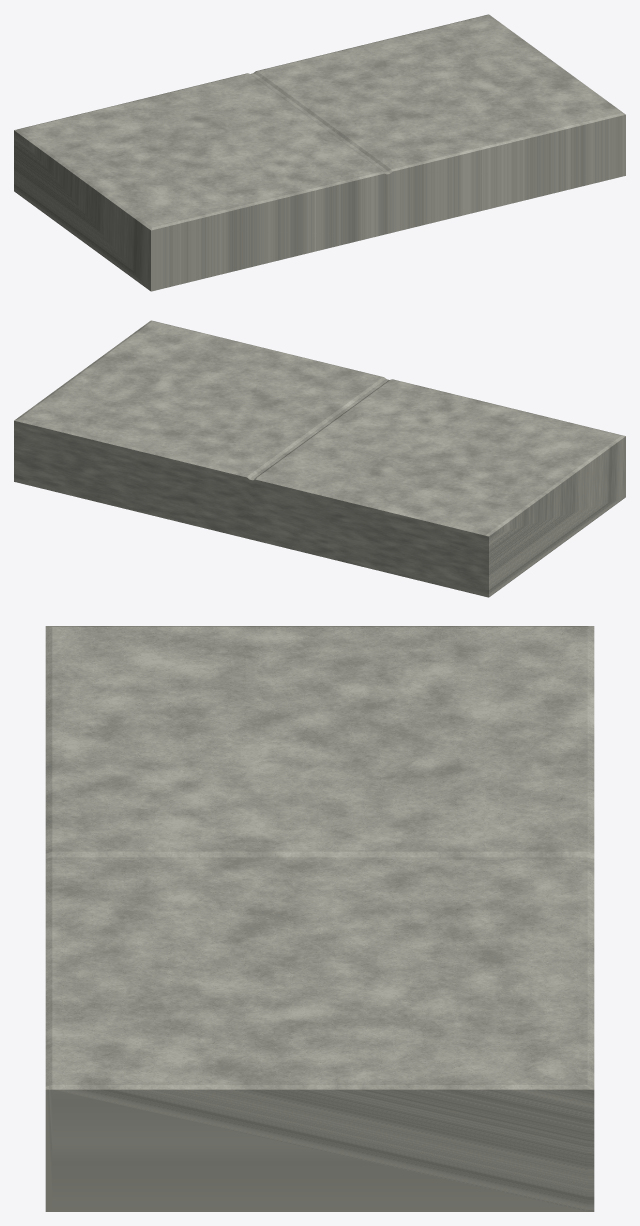
The model's file is PZ_Pavement_2x1.glb.
3 views of the same model, one above another, from view 1: azimuth 30°, elevation 25°; view 2: azimuth 150°, elevation 25°; view 3: azimuth 270°, elevation 25° (orthographic). The views are drawn at different scales.
Visible parts, largest first — view 1: PZ_Pavement_2x1__Slab_Main; view 2: PZ_Pavement_2x1__Slab_Main; view 3: PZ_Pavement_2x1__Slab_Main.
Part boxes in pixels (x1=…): PZ_Pavement_2x1__Slab_Main: x1=14, y1=14, x2=625, y2=291; PZ_Pavement_2x1__Slab_Main: x1=14, y1=320, x2=625, y2=597; PZ_Pavement_2x1__Slab_Main: x1=45, y1=626, x2=594, y2=1211.
Bounding box in the file's own units: 2 × 0.25 × 1.
Materials: 1 (1 with a texture image).
